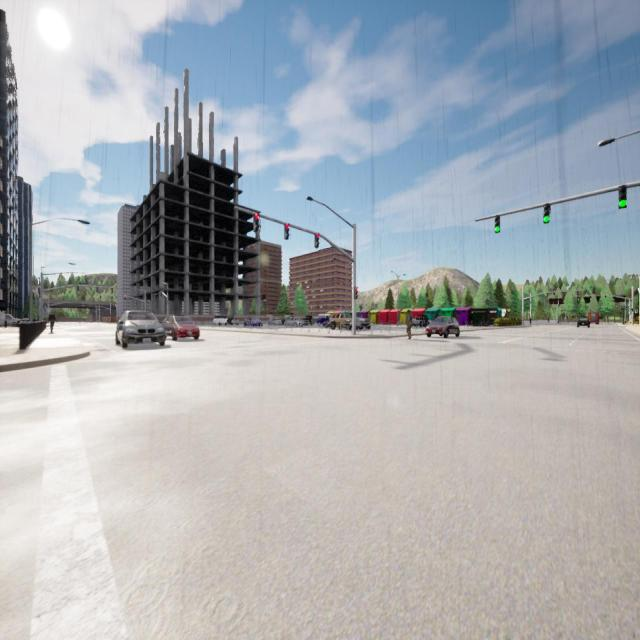Pedestrian: (406, 310, 413, 340), (49, 310, 55, 333)
Traffic_Signs: (564, 317, 566, 319)
Vehicle: (116, 311, 164, 348), (163, 316, 200, 340), (426, 316, 459, 338), (0, 312, 19, 326), (331, 313, 344, 330), (244, 317, 262, 327), (412, 315, 427, 326), (347, 321, 363, 330), (213, 315, 227, 325), (588, 312, 599, 324), (287, 318, 301, 327), (269, 316, 281, 326), (316, 314, 328, 324), (303, 315, 313, 326), (578, 318, 590, 327), (231, 319, 239, 326)
traffic_light: (619, 187, 626, 208), (543, 204, 550, 222), (254, 214, 259, 231), (495, 216, 500, 232), (284, 224, 289, 239), (315, 234, 319, 247), (354, 288, 358, 298), (124, 296, 126, 300), (632, 308, 634, 312), (111, 296, 112, 299), (578, 298, 579, 301), (590, 297, 591, 300), (605, 295, 606, 298), (100, 296, 101, 298)
